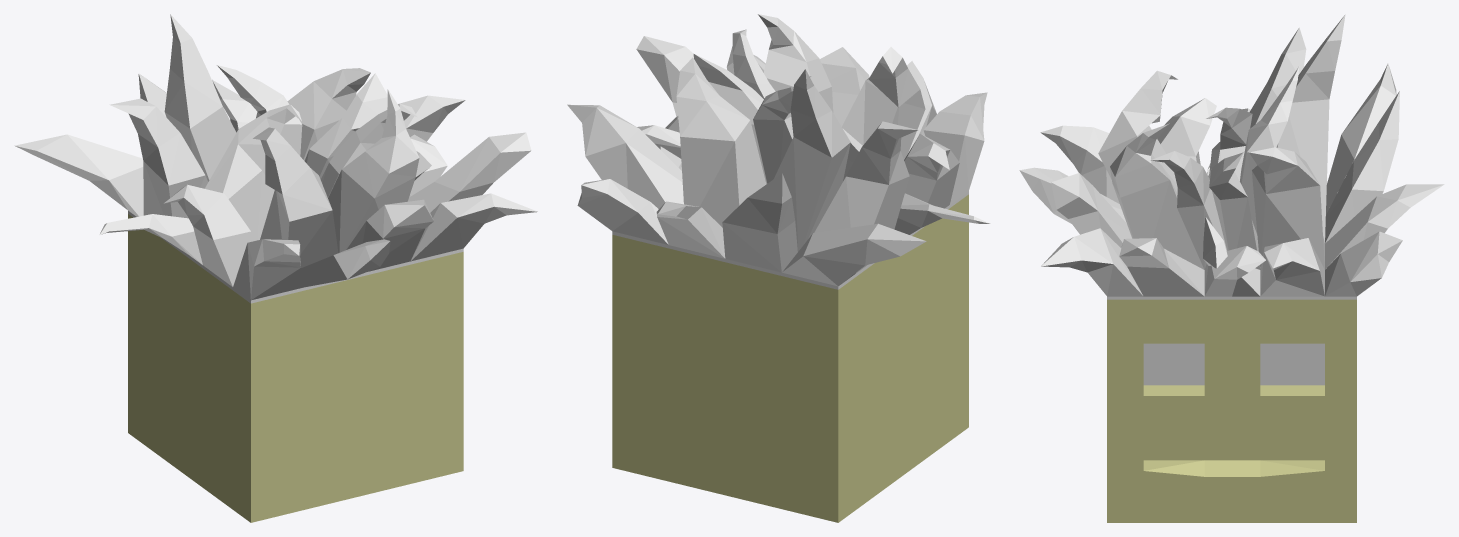
File: cube_skn_3.dae
The picture shows the model from 3 angles, left to right: view 1: azimuth 30°, elevation 25°; view 2: azimuth 150°, elevation 25°; view 3: azimuth 270°, elevation 25°; orthographic projection. The views are drawn at different scales.
Visible parts, largest first — view 1: Cube; view 2: Cube; view 3: Cube.
Part boxes in pixels (box(x1,y1,x2,y2)): Cube: box(14, 14, 537, 522); Cube: box(567, 14, 990, 522); Cube: box(1019, 14, 1444, 522).
Size of the model in its own units: 3.72 by 3.4 by 3.72.
